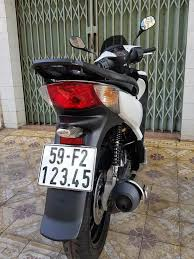number-plate: (43, 147, 94, 188)
